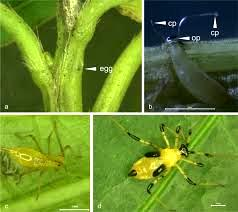Helopeltis-insect: (125, 134, 197, 188), (4, 142, 64, 177)
